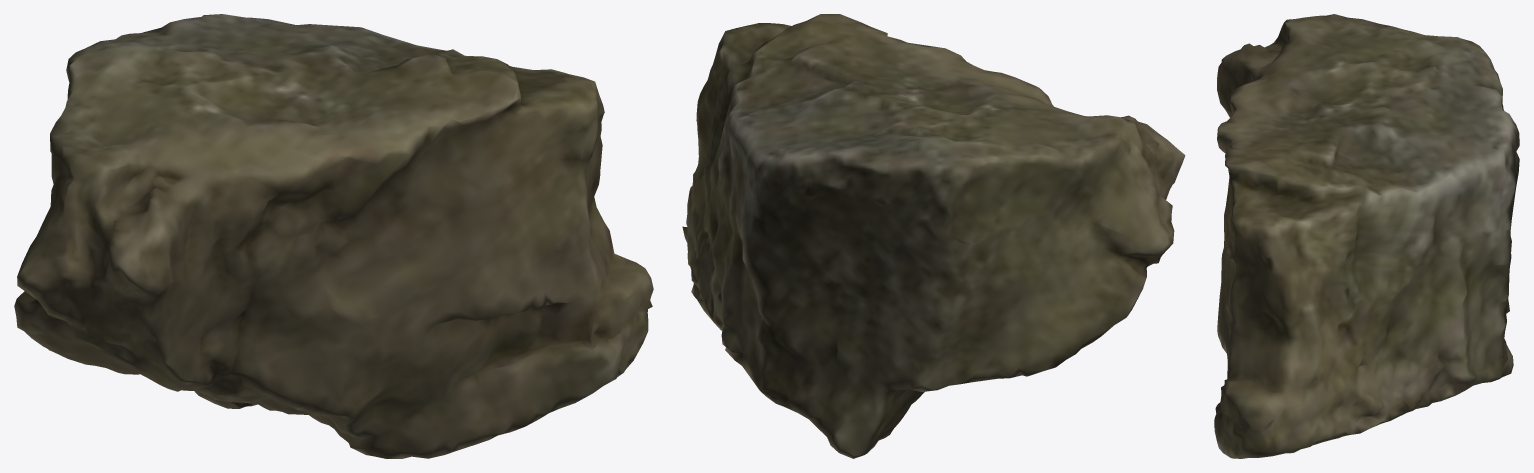
Rendered from rock_moss_set_02_f.gltf.
3 renders of one model, left to right at view 1: azimuth 30°, elevation 25°; view 2: azimuth 150°, elevation 25°; view 3: azimuth 270°, elevation 25°, orthographic. The views are drawn at different scales.
Visible parts, largest first — view 1: rock_moss_set_02_rock13; view 2: rock_moss_set_02_rock13; view 3: rock_moss_set_02_rock13.
Boxes of the visible parts, x1=… form: rock_moss_set_02_rock13: x1=14, y1=14, x2=653, y2=458; rock_moss_set_02_rock13: x1=682, y1=14, x2=1185, y2=458; rock_moss_set_02_rock13: x1=1214, y1=14, x2=1519, y2=458.
Bounding box in the file's own units: 2.09 × 1.26 × 1.14.
Materials: 1 (1 with a texture image).
